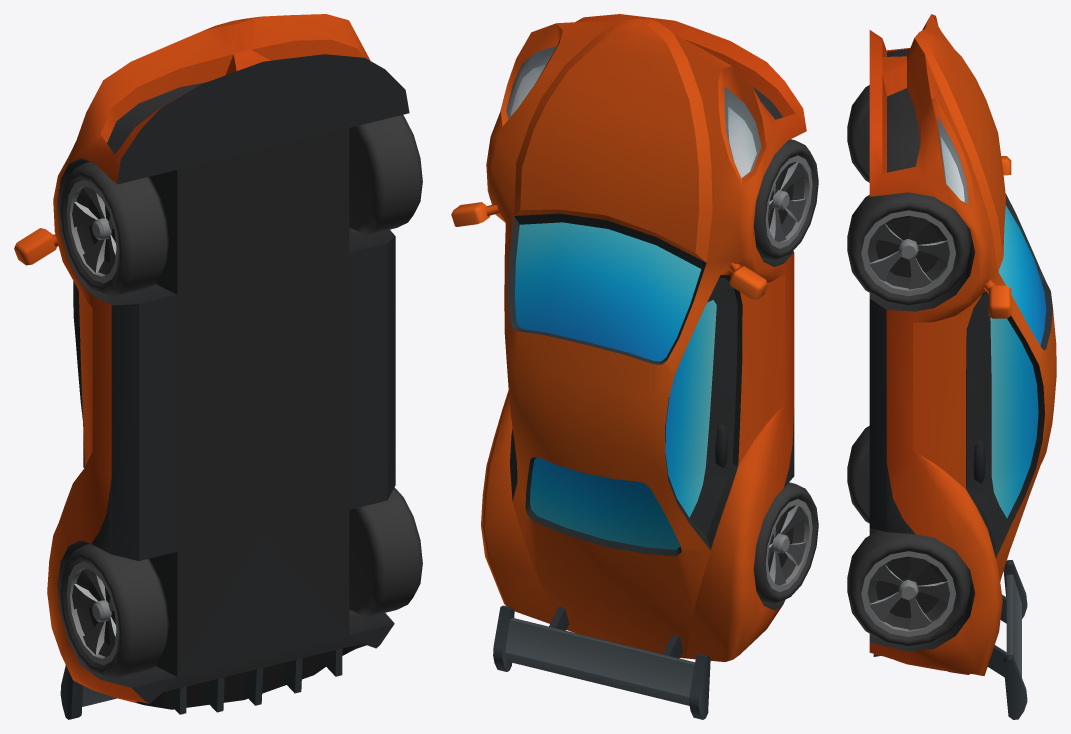
File: AiCar2Turned.fbx
3 renders of one model, left to right at view 1: azimuth 30°, elevation 25°; view 2: azimuth 150°, elevation 25°; view 3: azimuth 270°, elevation 25°, orthographic. The views are drawn at different scales.
Visible parts, largest first — view 1: Car_13_Wheel_Rear_Left; view 2: Car_13_Wheel_Rear_Left; view 3: Car_13_Wheel_Rear_Left.
Part boxes in pixels (<box>): Car_13_Wheel_Rear_Left: <box>14,14,422,719</box>; Car_13_Wheel_Rear_Left: <box>451,14,818,719</box>; Car_13_Wheel_Rear_Left: <box>847,14,1056,719</box>.
Bounding box in the file's own units: 478 × 940 × 282.
Materials: 7 (7 with a texture image).
